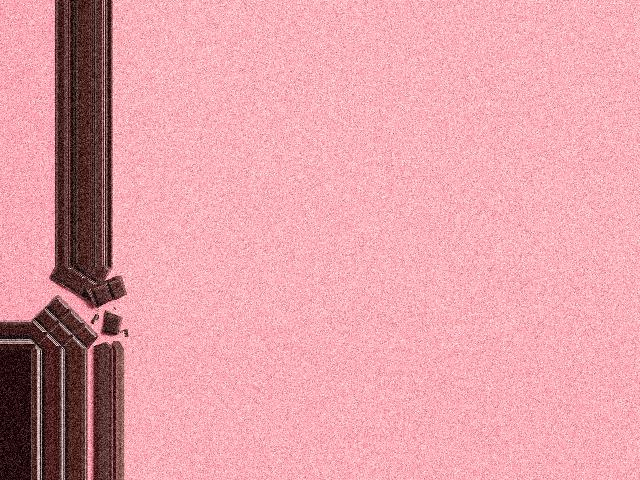chocolate: (29, 271, 120, 349)
